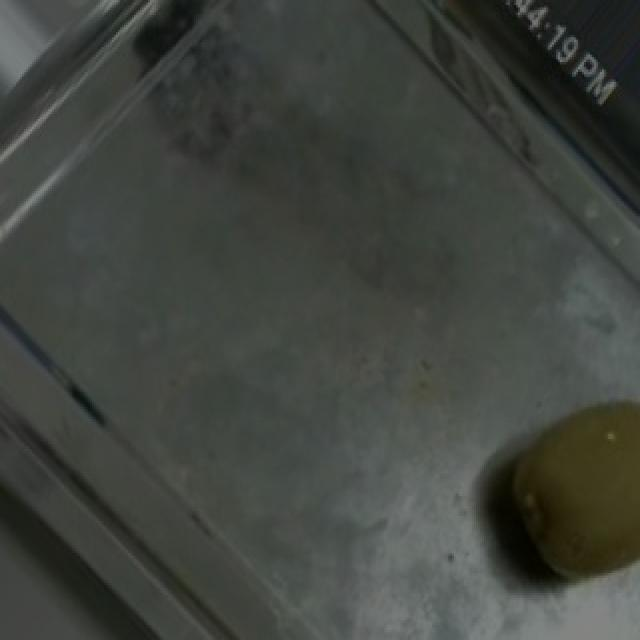Fruit: (472, 367, 640, 608)
